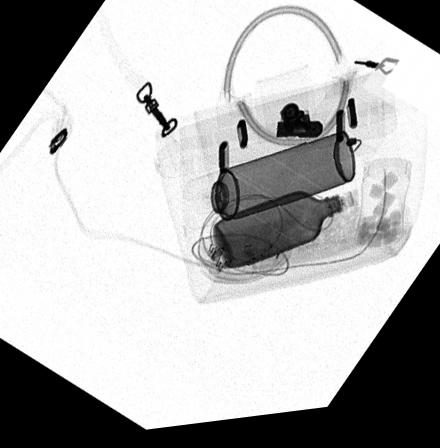Sprayer: (179, 139, 356, 236)
